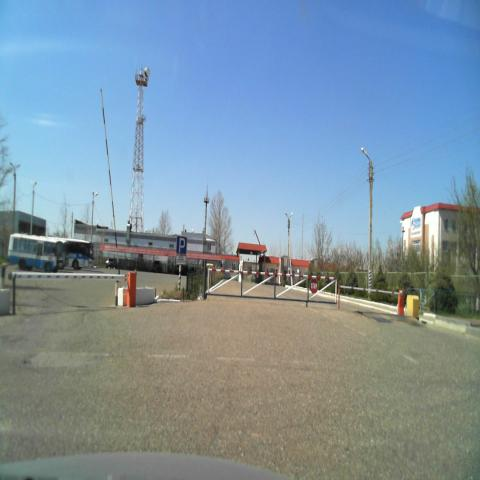2_5: (308, 277, 318, 292)
